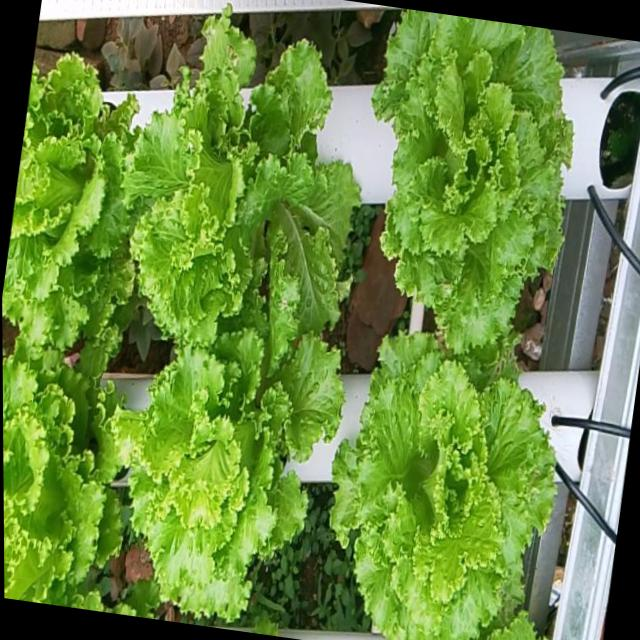Mature: (126, 16, 375, 344), (372, 12, 572, 361), (330, 335, 556, 640), (113, 331, 343, 625), (2, 58, 136, 354), (3, 330, 120, 604)
